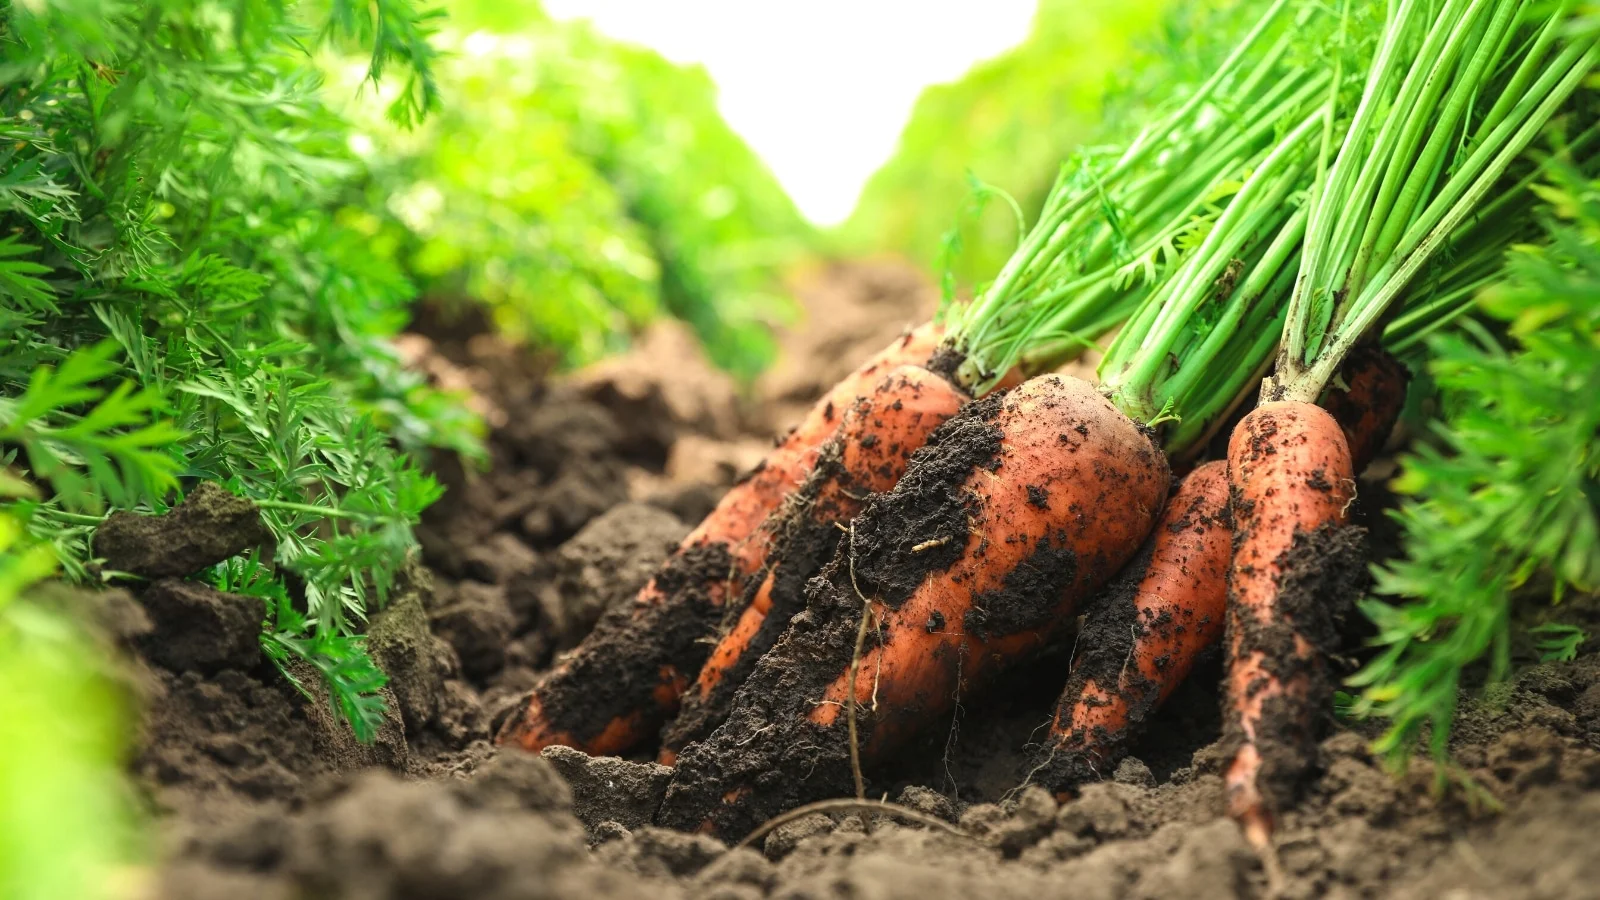carrot: (638, 248, 1500, 869)
